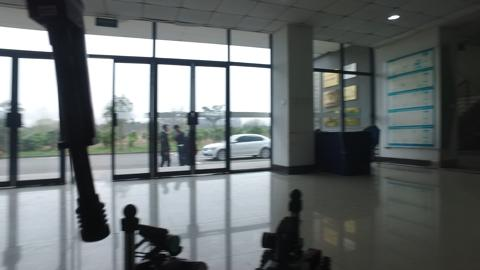chariot: (252, 185, 332, 269), (118, 202, 208, 269)
